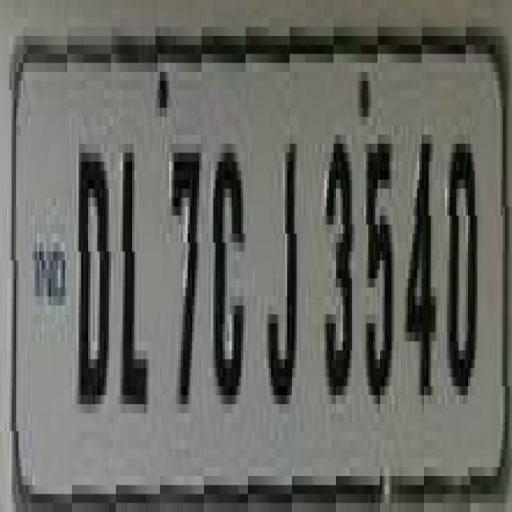number plate: (11, 26, 511, 512)
